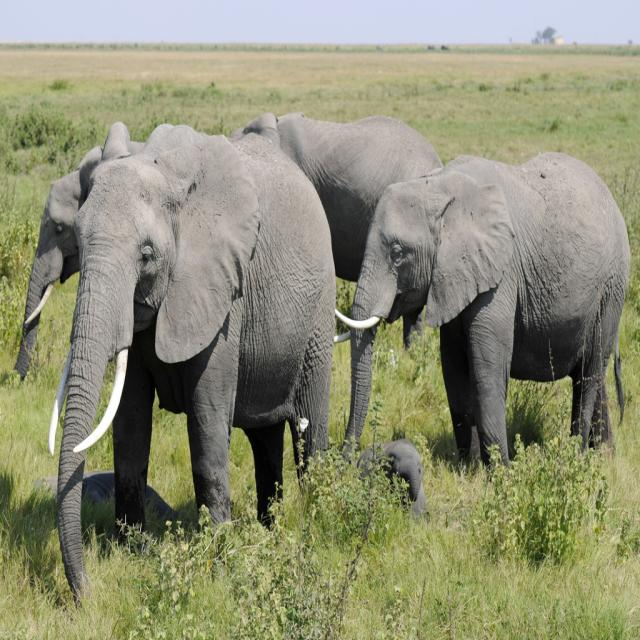Elephant: (46, 121, 344, 606), (334, 150, 631, 476), (356, 437, 426, 518)
